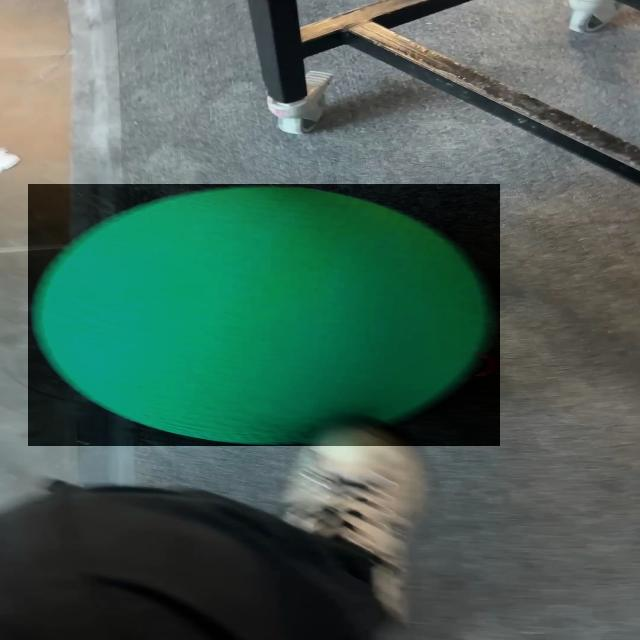Algae: (28, 184, 500, 446)
